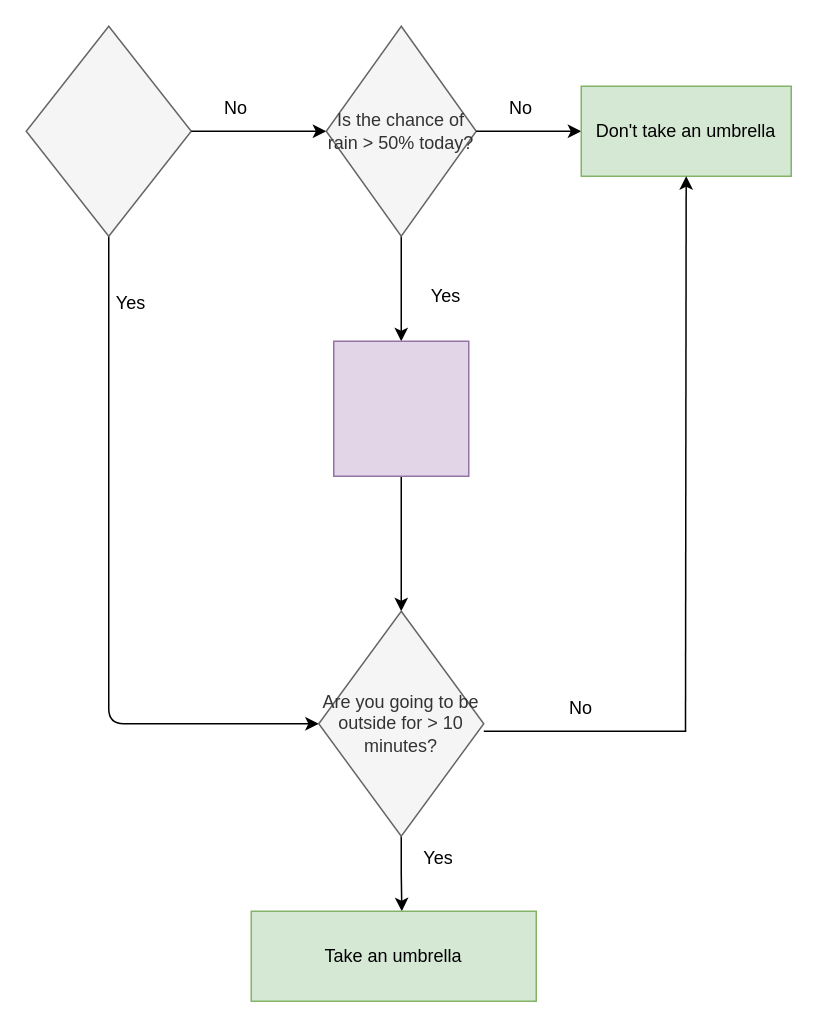
The diagram is 818 pixels wide and 1028 high, and some of its shapes have lost their labels. Here are the shapes that lost their labels. From the top down, the centre of each, then its label:
At point 108,130: "Is it raining right now?".
At point 400,408: "Complain about the unpredictible weather".
